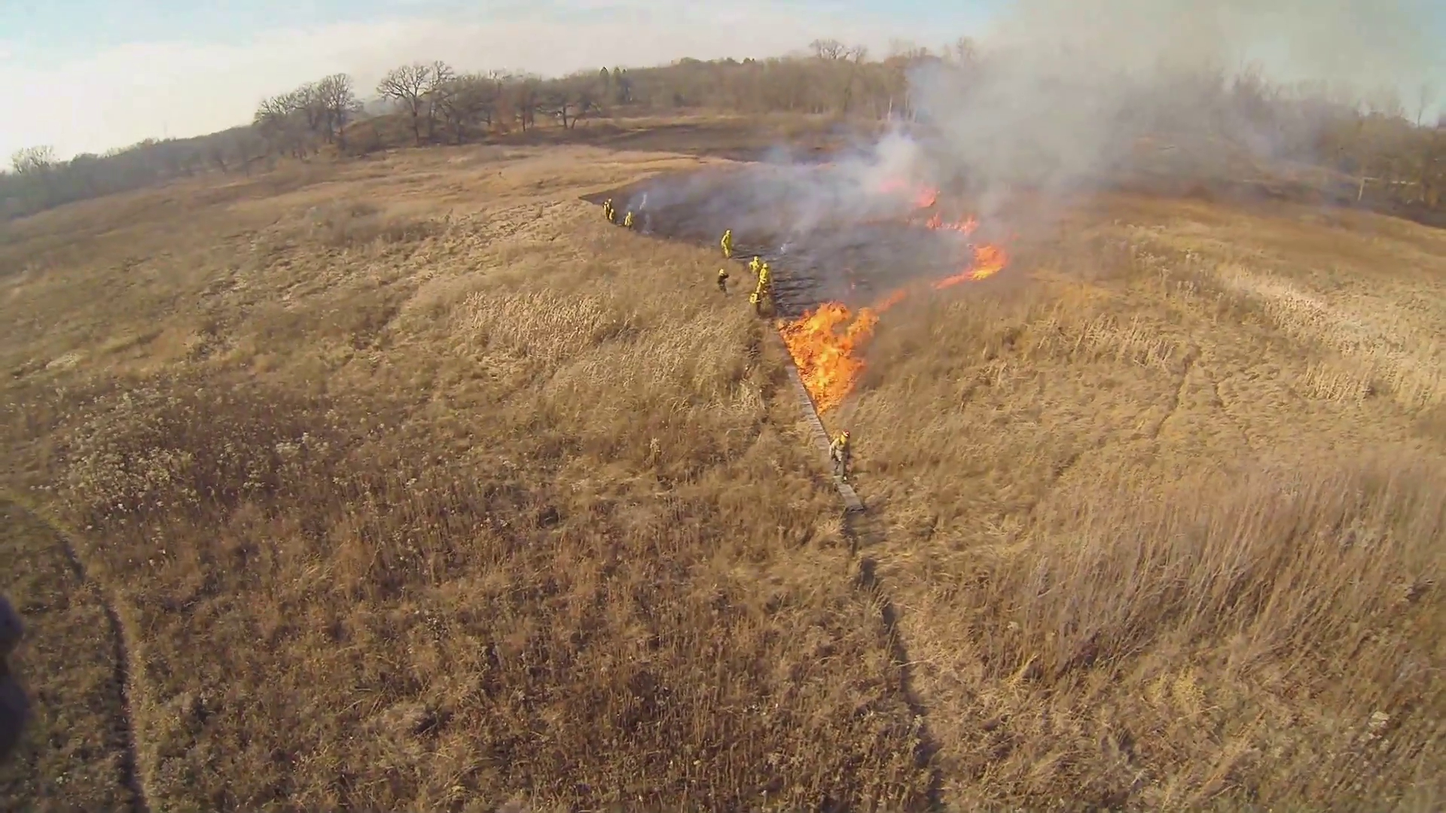forest_fire: (779, 289, 908, 413), (933, 244, 1007, 289)
